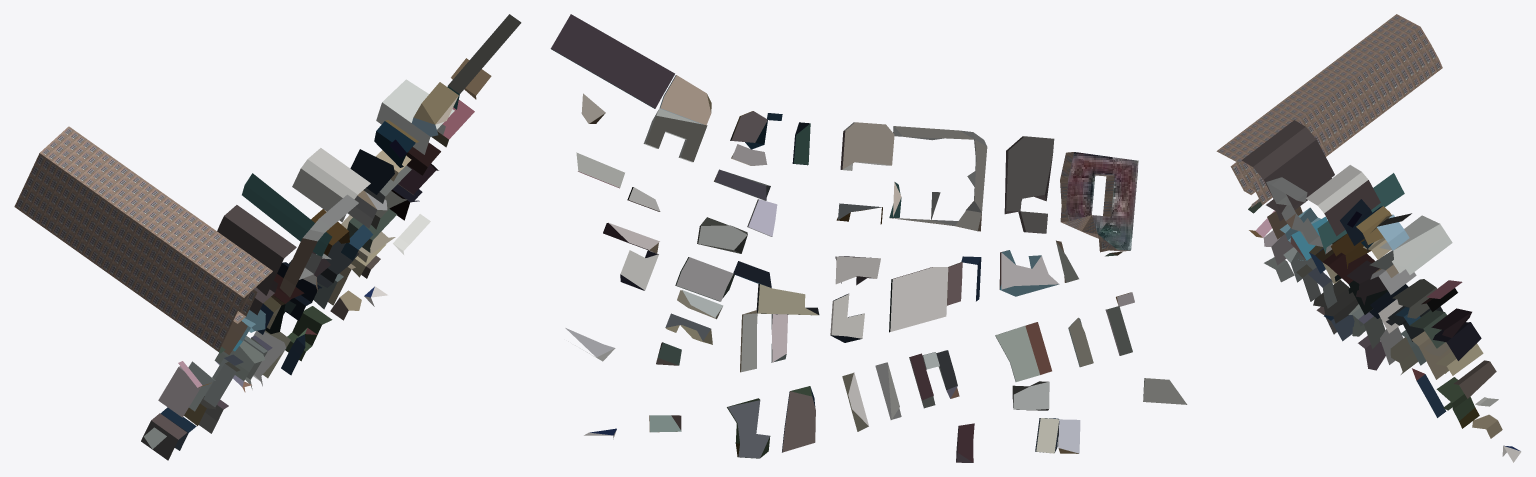
The picture shows the model from 3 angles, left to right: view 1: azimuth 30°, elevation 25°; view 2: azimuth 150°, elevation 25°; view 3: azimuth 270°, elevation 25°; orthographic projection. The views are drawn at different scales.
Bounding box in the file's own units: 255 × 157 × 147.
Materials: 5 (4 with a texture image).
